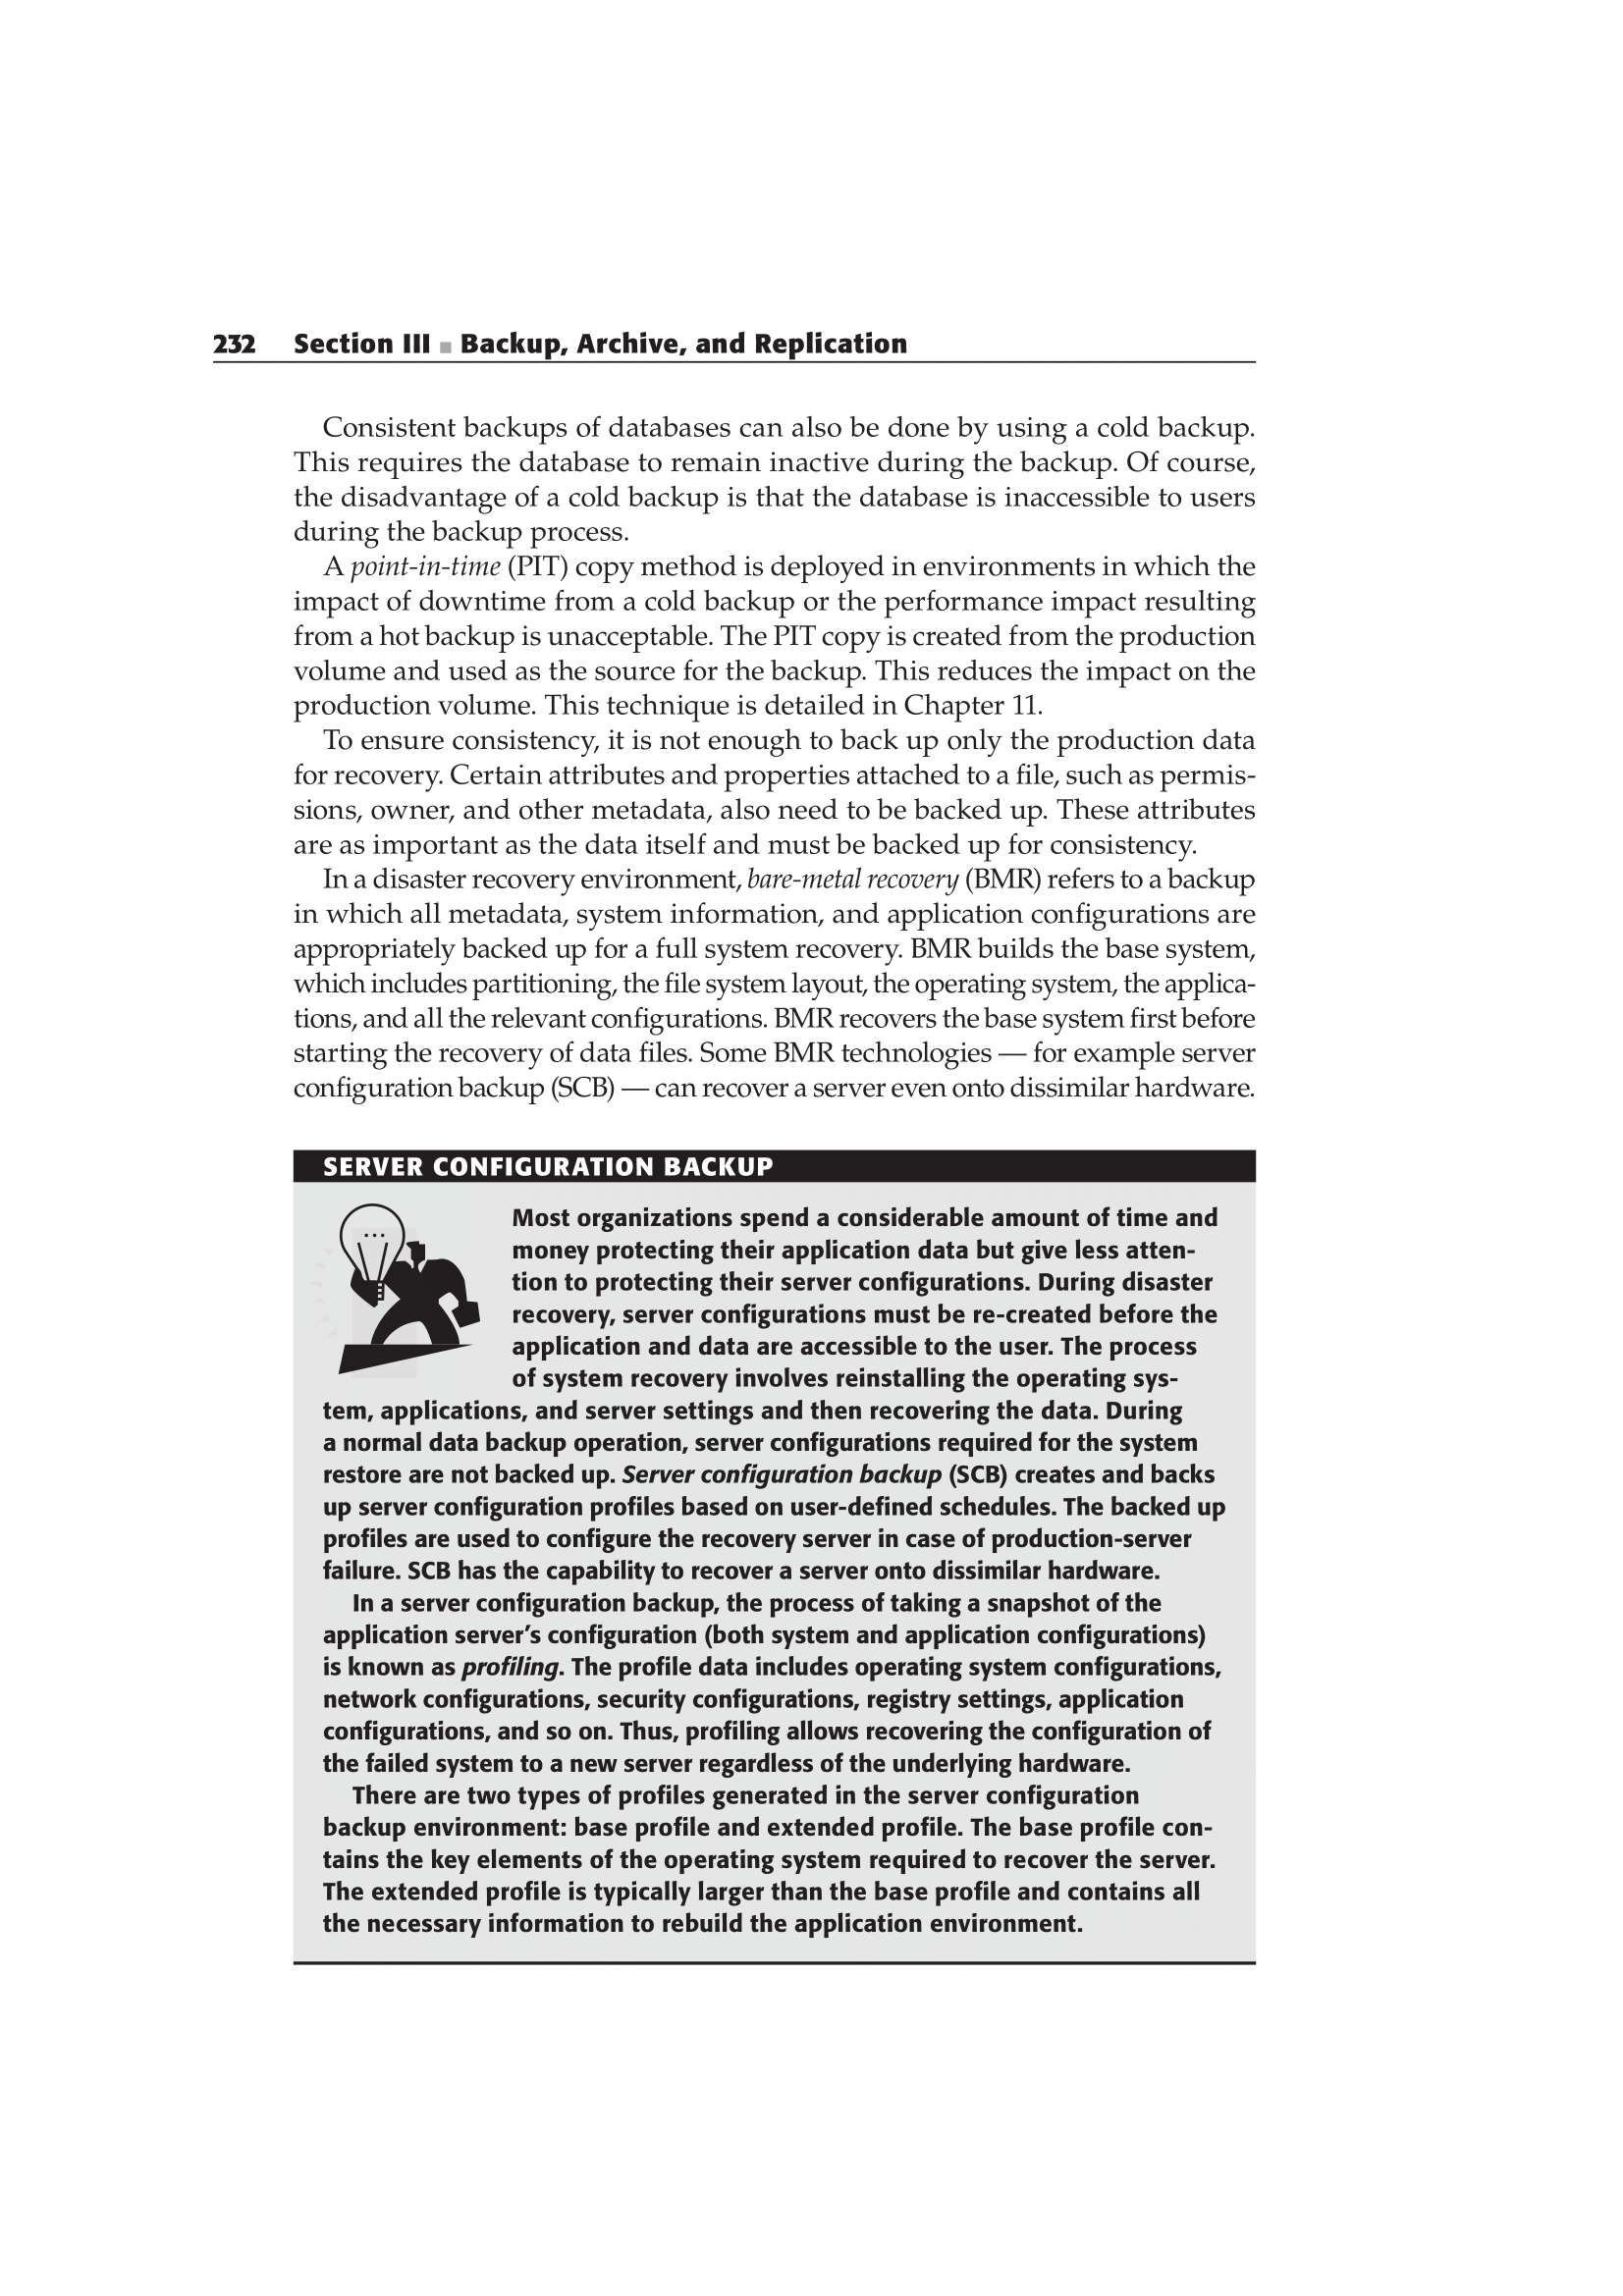Paragraph: (306, 1392, 1224, 1940), (279, 862, 1265, 1113), (265, 388, 1259, 553), (288, 556, 1259, 716), (508, 1187, 1205, 1392), (292, 725, 1265, 858), (191, 314, 913, 356), (320, 1146, 790, 1192)
